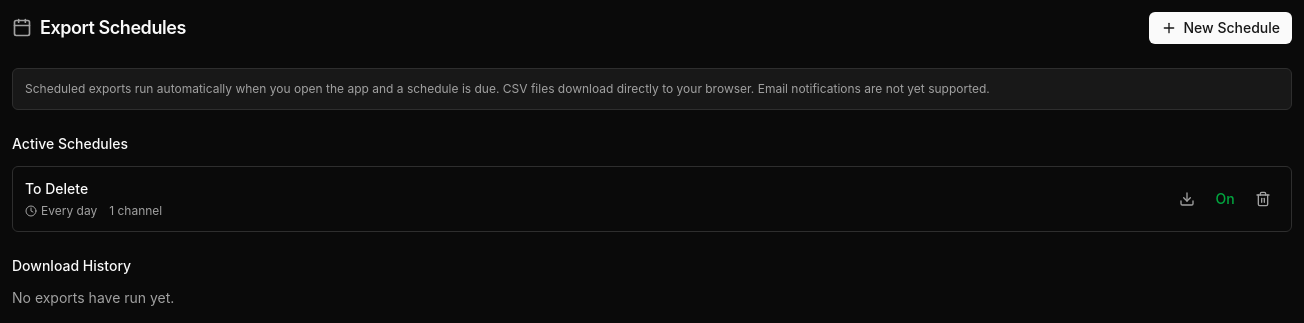
Test: ExportScheduler › removes a schedule when delete is clicked
The image size is (1304, 323).
Expected: the text "To Delete" is shown, [25,180,88,197]
Click the button named "Delete To Delete" at (1263, 199), box [1247,183,1279,215]
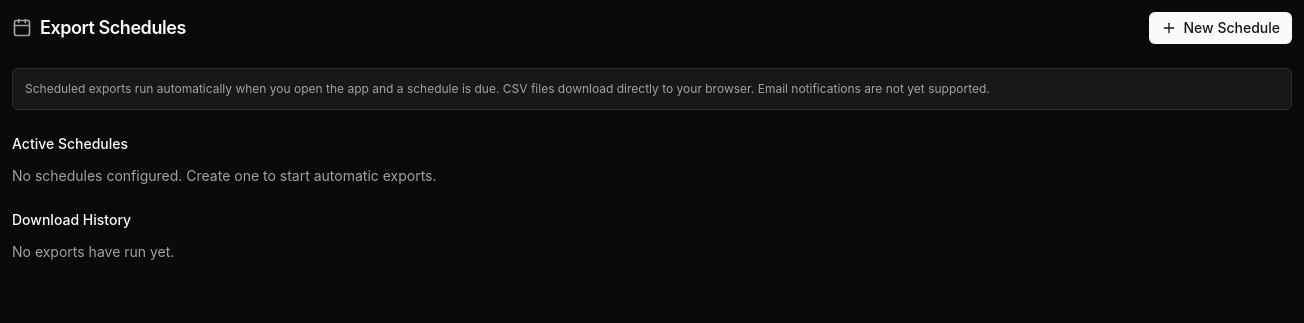
Expected: the text "To Delete" is gone
